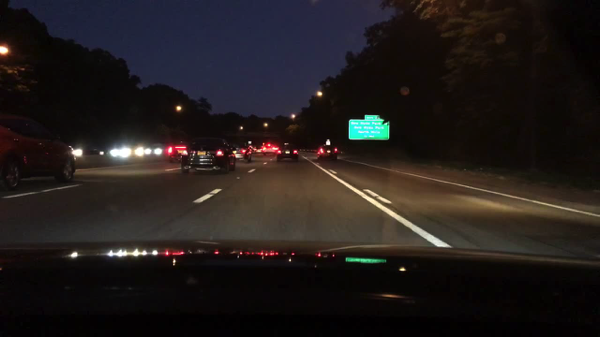car: (0, 103, 77, 193), (180, 137, 236, 175), (135, 140, 164, 160), (166, 141, 191, 164), (276, 141, 300, 163), (316, 139, 338, 161), (108, 144, 132, 164), (232, 143, 253, 164), (72, 146, 104, 157), (261, 141, 278, 156), (253, 146, 262, 154)
traffic sign: (347, 120, 390, 140), (400, 87, 410, 97), (364, 114, 381, 119)
